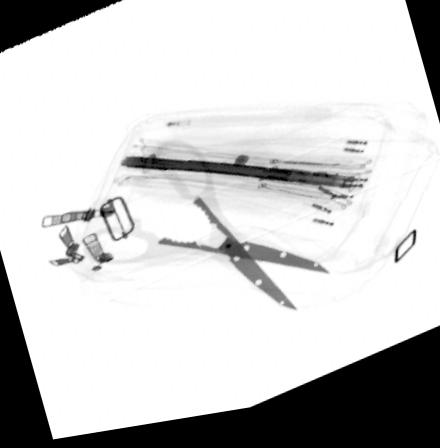Scissors: (89, 146, 330, 321)
